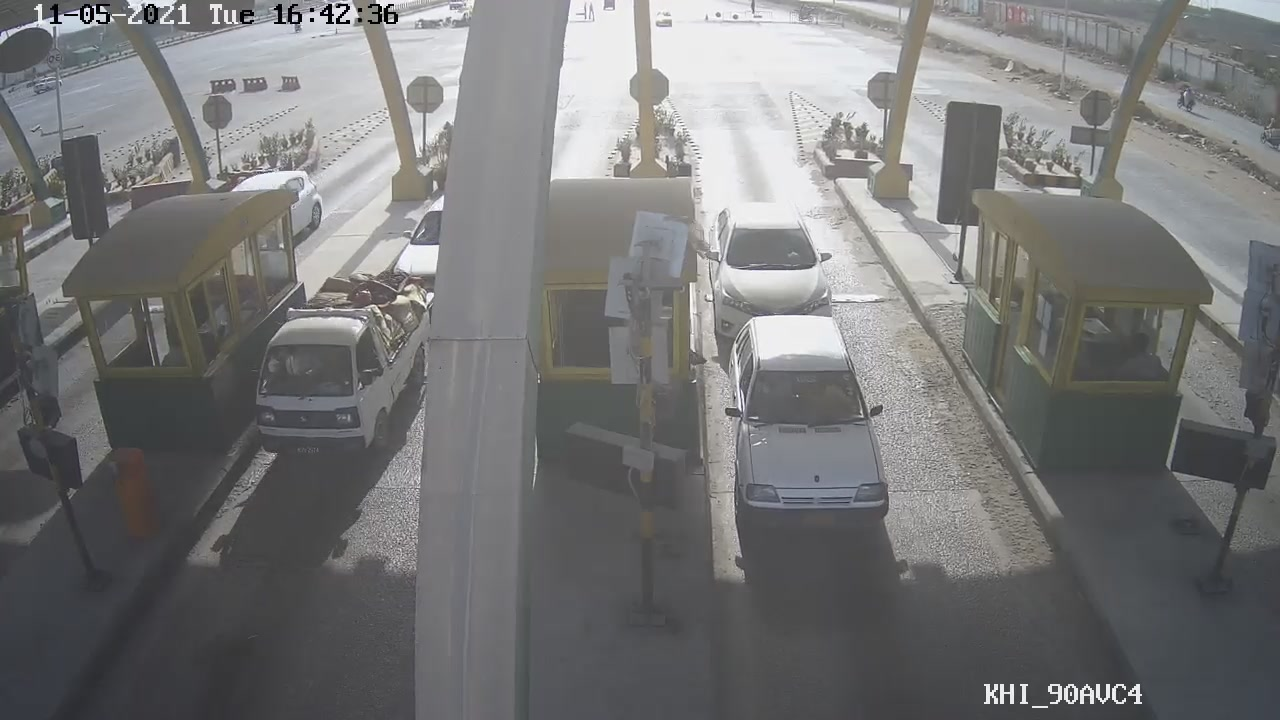F1: (713, 305, 911, 549)
